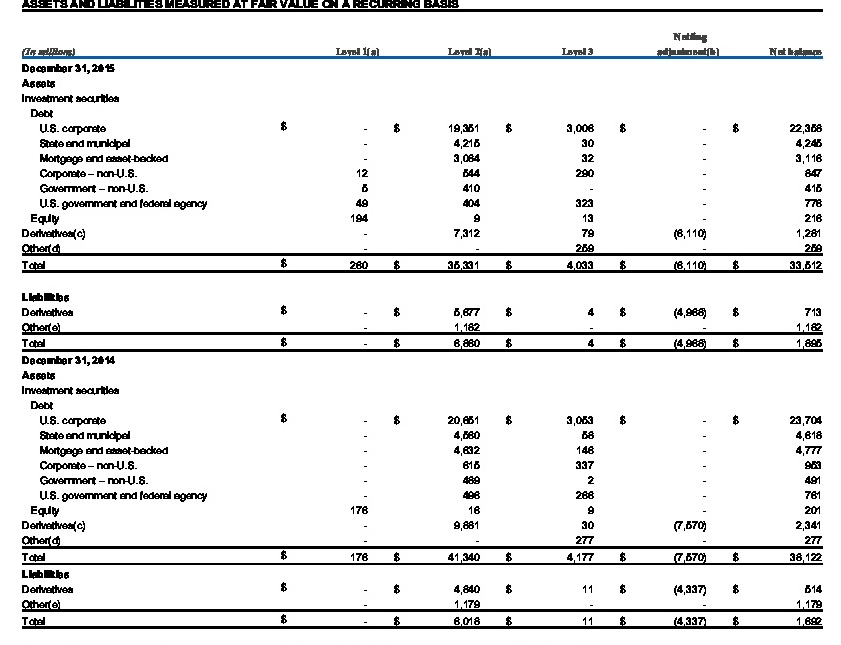table: (0, 0, 841, 645)
